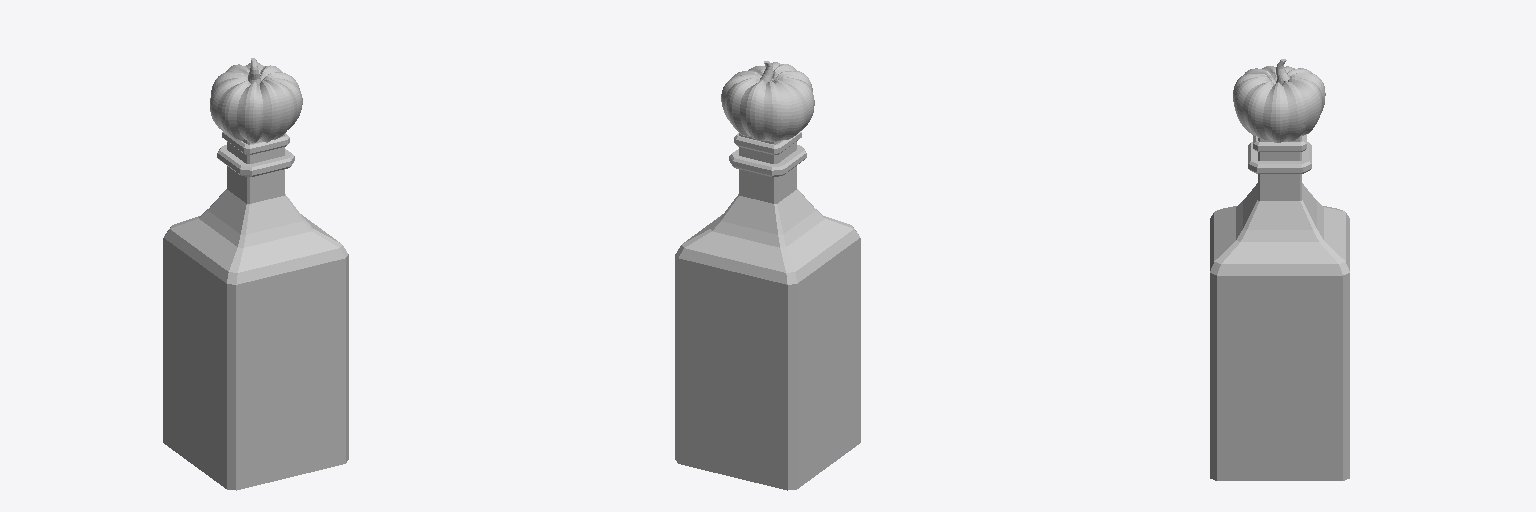
Rendered from Potion BottleOBJ.obj.
3 renders of one model, left to right at view 1: azimuth 30°, elevation 25°; view 2: azimuth 150°, elevation 25°; view 3: azimuth 270°, elevation 25°, orthographic.
Visible parts, largest first — view 1: Bottle_Bottle_0; view 2: Bottle_Bottle_0; view 3: Bottle_Bottle_0.
Part boxes in pixels (x1,y1,x2,y2): Bottle_Bottle_0: (163,58,348,490); Bottle_Bottle_0: (675,61,860,490); Bottle_Bottle_0: (1210,59,1349,480).
Size of the model in its own units: 0.2317 by 0.7109 by 0.2317.